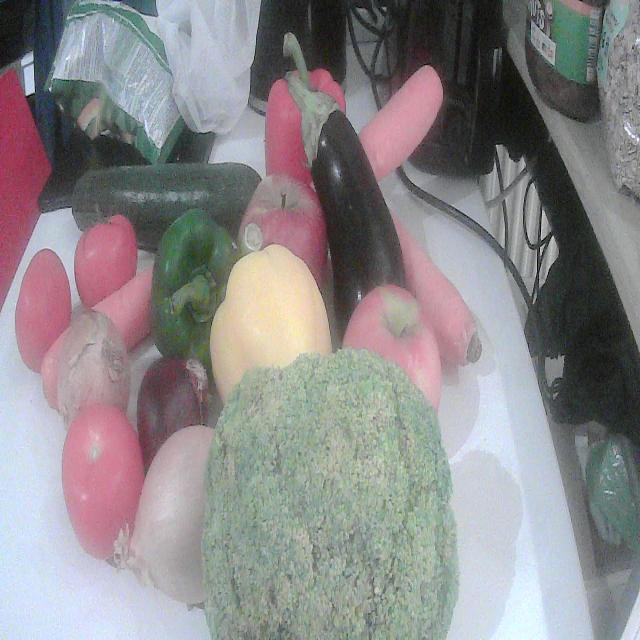Apple: (343, 284, 441, 412), (239, 175, 329, 289)
Bell Pepper: (210, 244, 332, 403), (152, 209, 241, 386), (266, 33, 345, 192)
Broccoli: (202, 349, 458, 639)
Carrot: (392, 213, 482, 368), (360, 65, 443, 180), (92, 265, 152, 349)
Cauliflower: (72, 163, 261, 252)
Eggplant: (302, 92, 404, 325)
Onion: (128, 426, 214, 604), (138, 357, 214, 468), (58, 310, 130, 422)
Tomato: (62, 405, 145, 558), (16, 249, 71, 372), (74, 215, 138, 306)
